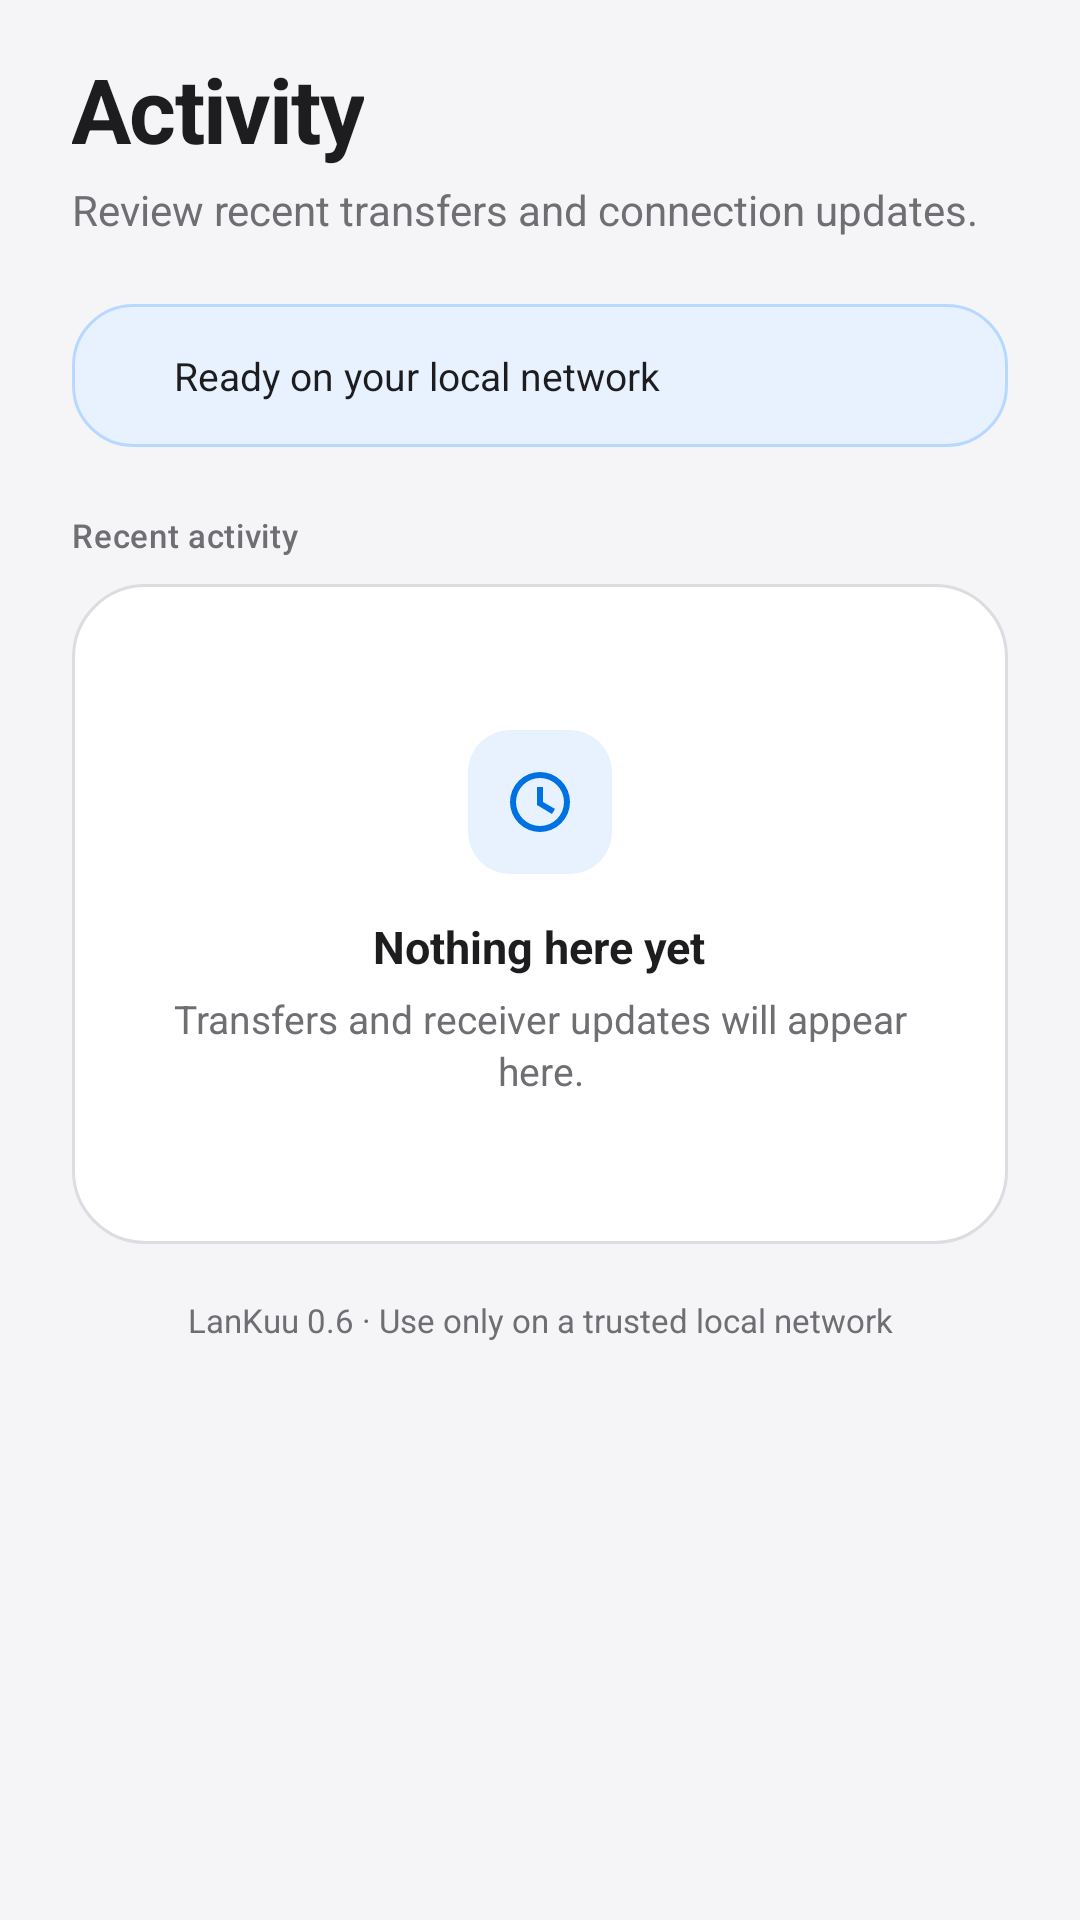

Named icons in this screenshot (1080×1920) and their centers, (x=x, y=y):
activity: (x=540, y=802)
